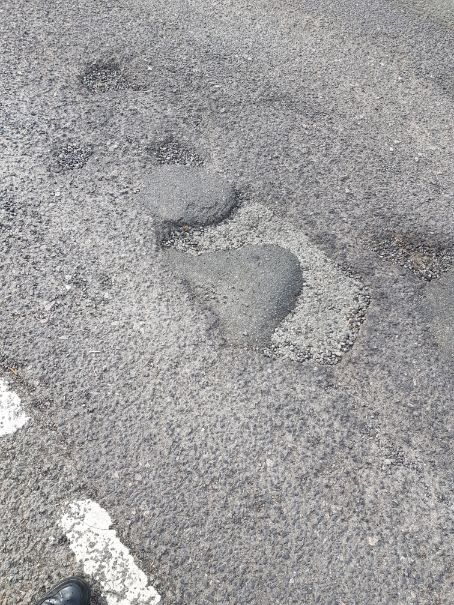pothole: (150, 184, 381, 371)
